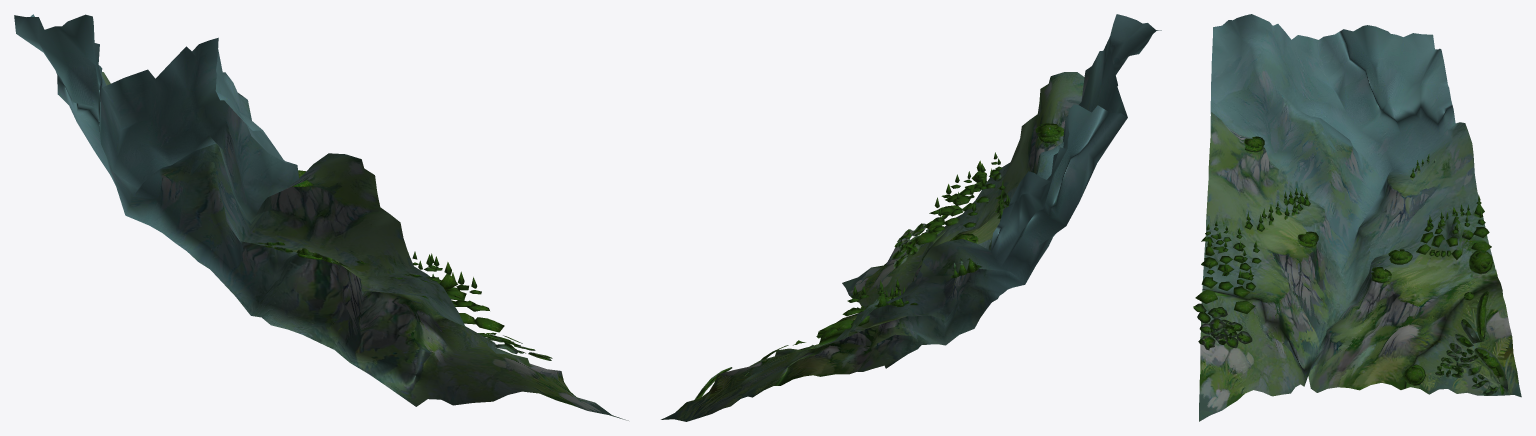
The model's file is reference_mountain_massif.glb.
3 views of the same model, side by side, from view 1: azimuth 30°, elevation 25°; view 2: azimuth 150°, elevation 25°; view 3: azimuth 270°, elevation 25° (orthographic). The views are drawn at different scales.
Parts seen in each view (by area): view 1: tripo_node_277cc4ea-8d69-43c0-b681-a855983620c8; view 2: tripo_node_277cc4ea-8d69-43c0-b681-a855983620c8; view 3: tripo_node_277cc4ea-8d69-43c0-b681-a855983620c8.
Boxes of the visible parts, x1=… form: tripo_node_277cc4ea-8d69-43c0-b681-a855983620c8: x1=14, y1=14, x2=628, y2=420; tripo_node_277cc4ea-8d69-43c0-b681-a855983620c8: x1=661, y1=14, x2=1161, y2=421; tripo_node_277cc4ea-8d69-43c0-b681-a855983620c8: x1=1193, y1=14, x2=1521, y2=421.
Size of the model in its own units: 0.998 by 0.998 by 0.998.
1 material, 1 textured.
